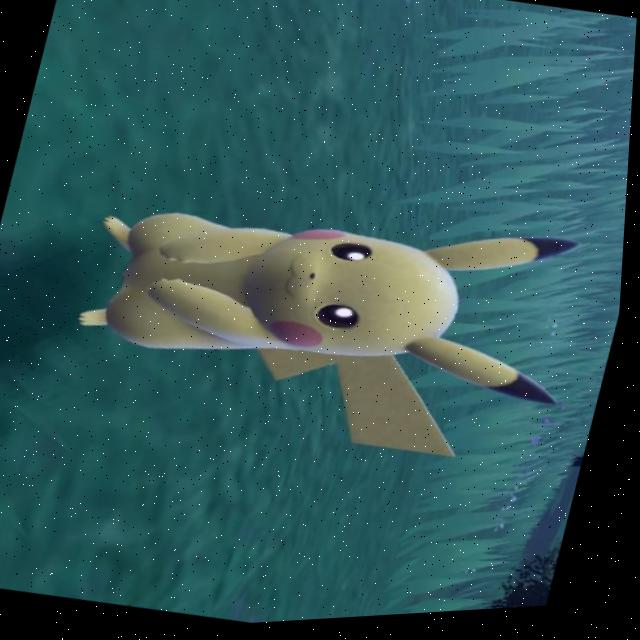Pikachu: (0, 85, 619, 547)
